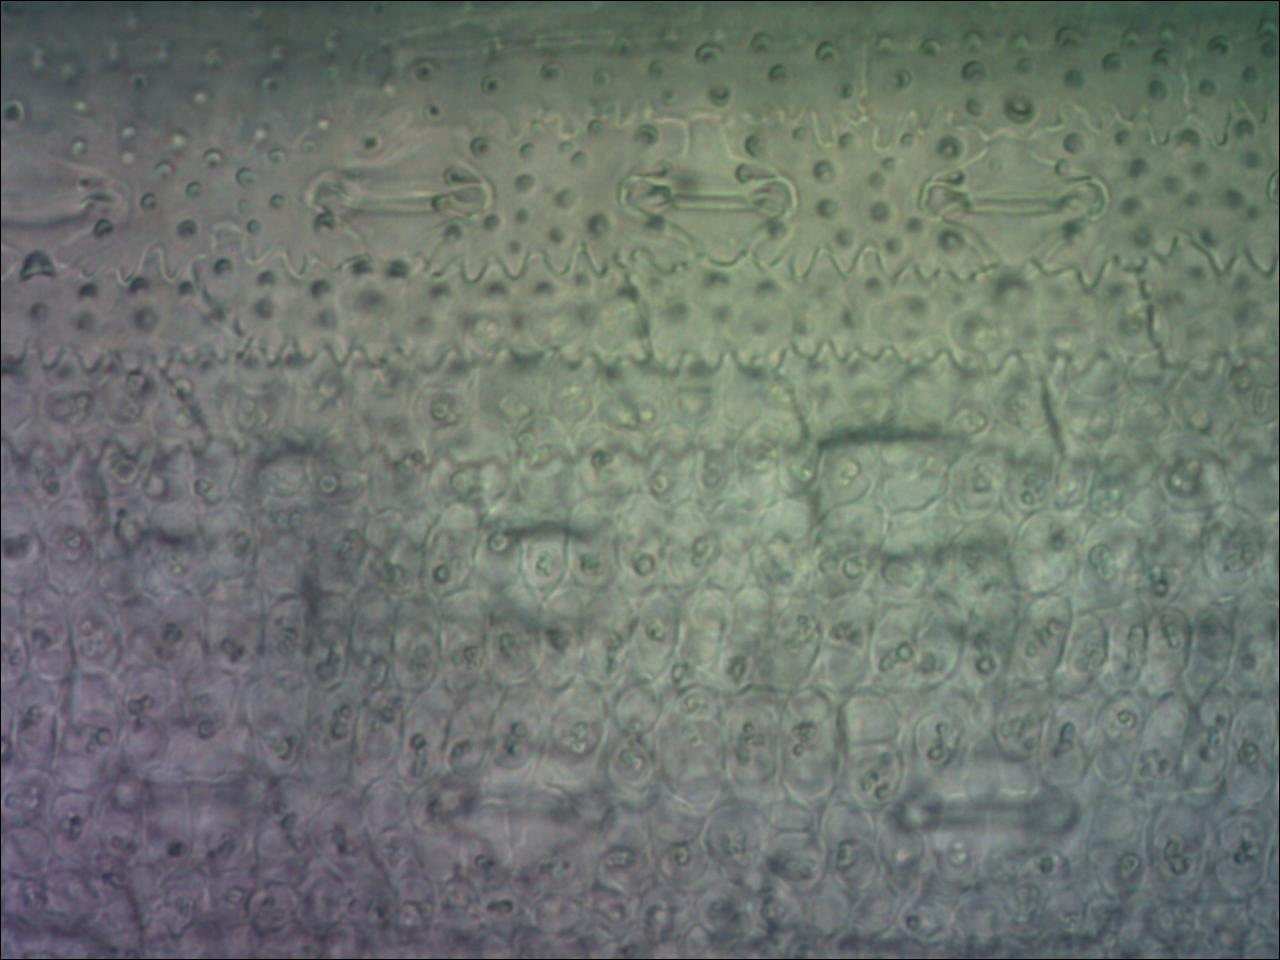stoma: (617, 124, 807, 266), (917, 135, 1110, 260), (314, 139, 491, 271), (1, 134, 134, 248)
